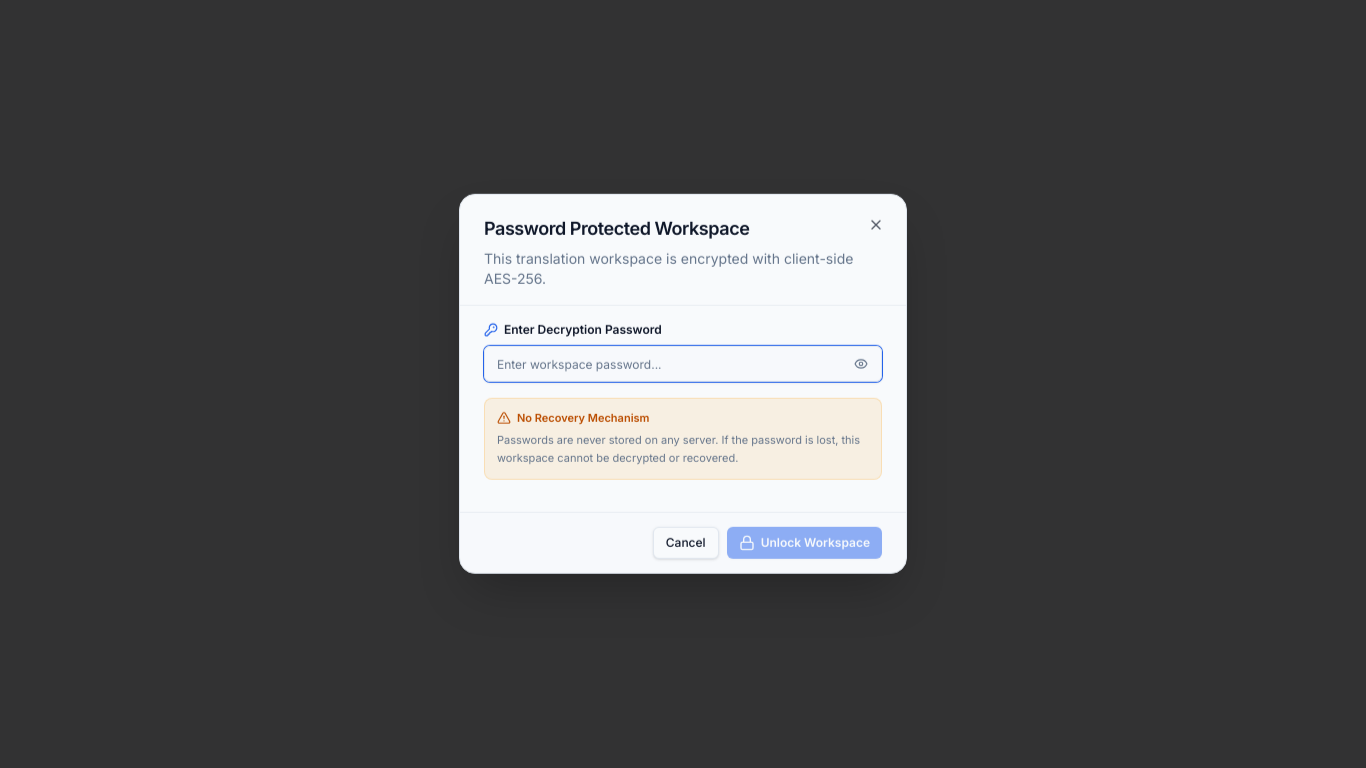
Test: UnlockShareDialog › shows error message when incorrect password is typed
The image size is (1366, 768).
In the password field with placeholder "Enter workspace password...": (683, 364) [484,346,882,382], type "wrong-pass"
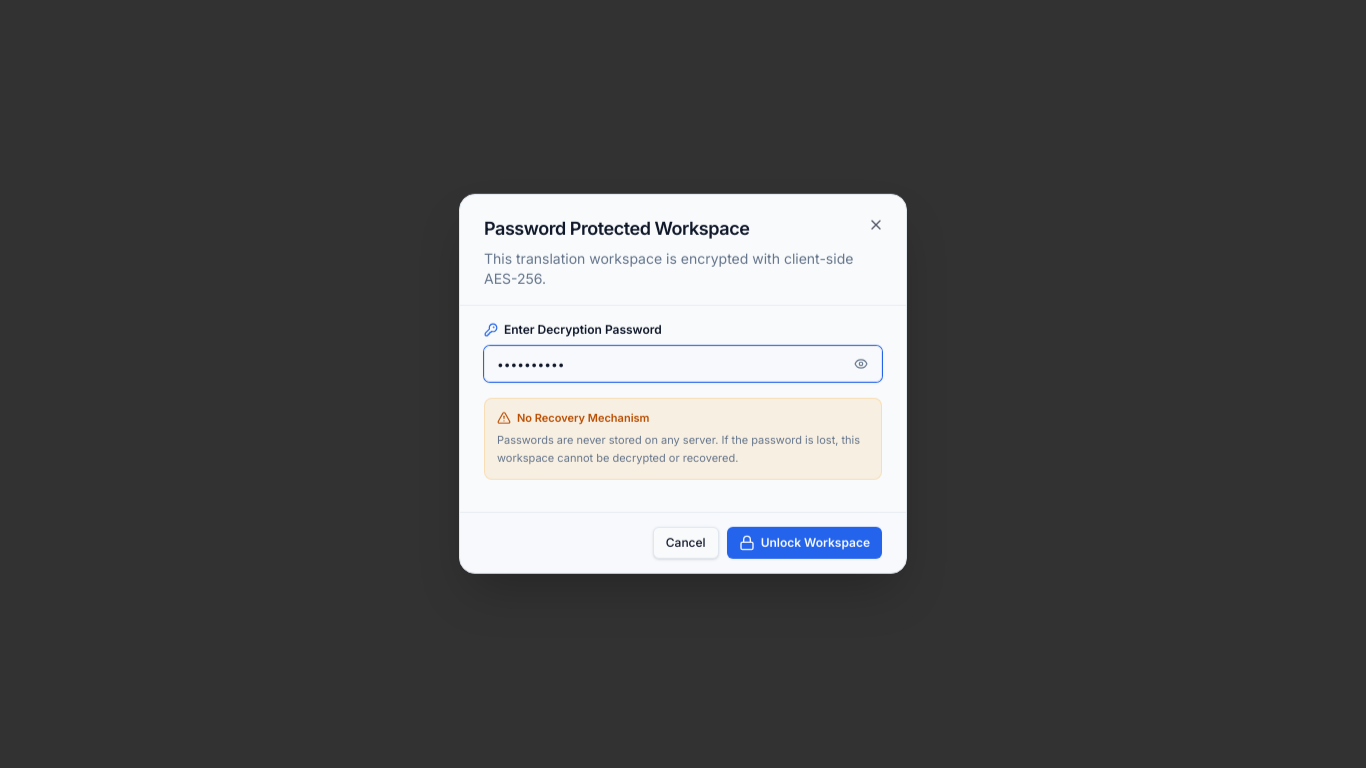
Click the button "Unlock Workspace": (804, 543) [727,527,882,559]
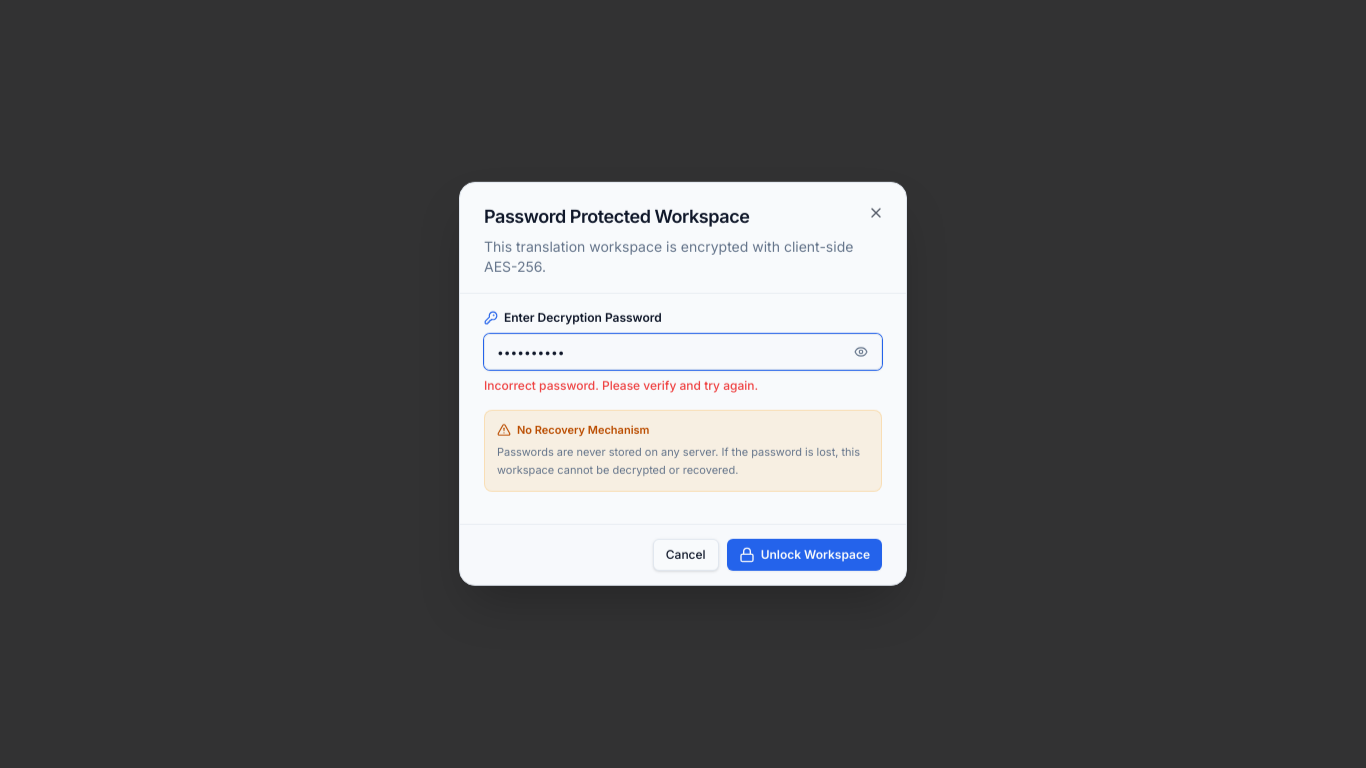
Now the text "Incorrect password. Please verify and try again." is shown, box [484,378,758,394]
